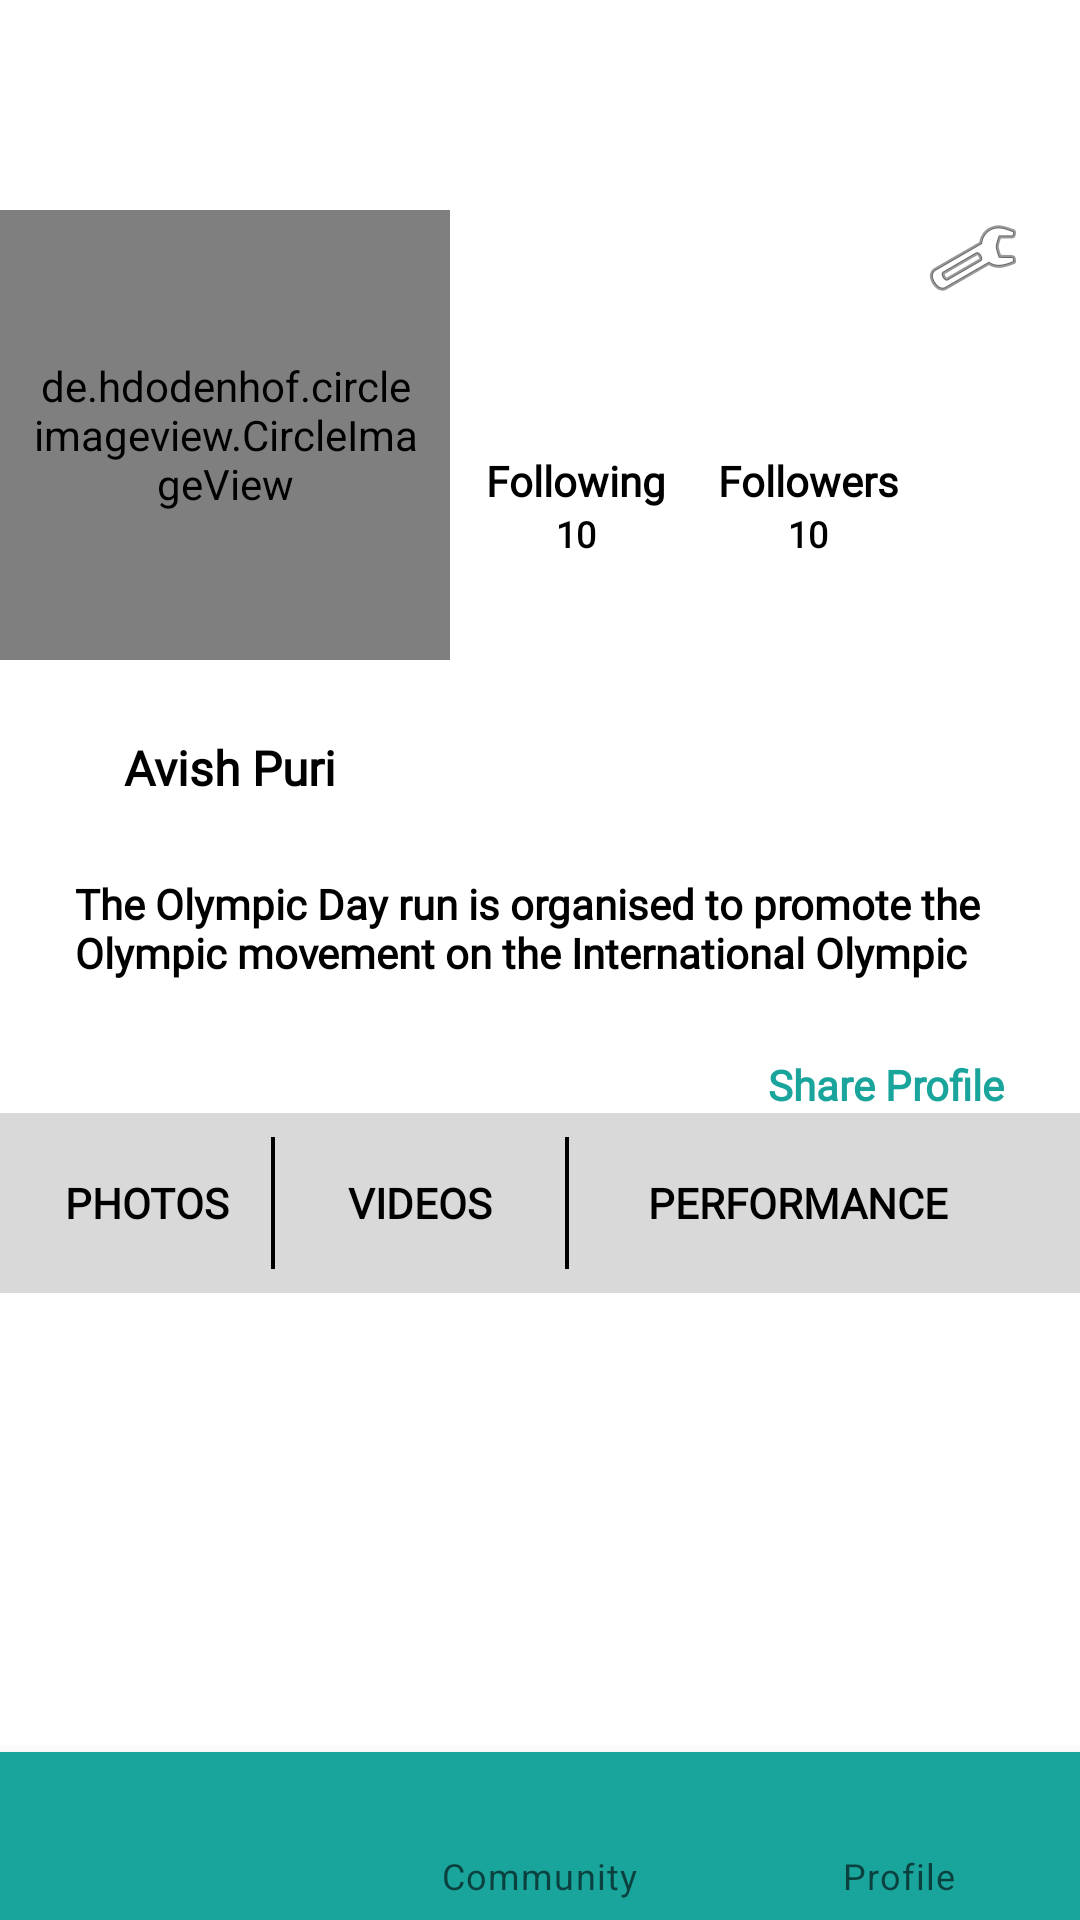

Where icons sit on this 1080px x 1920px app screen, as box=[x1, y1, x2, y2]:
preferences: box=[930, 225, 1016, 291]
